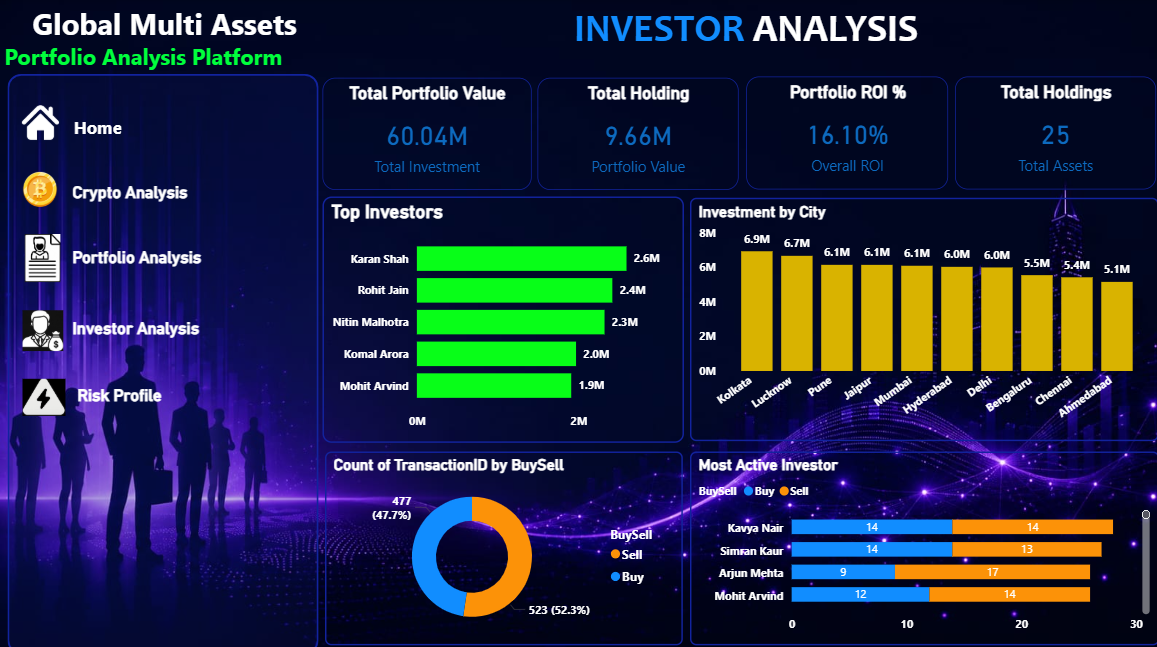

Layout of this report page (visuals, bound fields, positions):
{"tool":"powerbi","page":{"name":"Investor Analysis","canvas":[1280,720],"ordinal":3},"visuals":[{"type":"textbox","box":[0,0,370.5,115.3],"z":0},{"type":"card","title":"    Total Holding","fields":{"Values":["Measure.Portfolio Value"]},"box":[591.2,86.9,220.8,123.1],"z":0,"group":"g6"},{"type":"image","box":[25.3,187,38.6,44.6],"z":0,"group":"g1"},{"type":"clusteredBarChart","title":"Top Investors","fields":{"Category":["Dim_Investors.InvestorName"],"Y":["Measure.Total Investment"]},"box":[354,216.8,396.6,270.3],"z":0,"group":"g7"},{"type":"actionButton","title":"Portfolio Analysis","box":[80.8,273.9,159.3,24.1],"z":0,"group":"g2"},{"type":"actionButton","title":"Investor Analysis","box":[80.8,351.1,167.7,29],"z":0,"group":"g4"},{"type":"actionButton","title":"Risk Profile","box":[85.6,423.5,100.1,24.1],"z":0,"group":"g3"},{"type":"donutChart","fields":{"Y":["CountNonNull(Dim_Transactions.TransactionID)"],"Category":["Dim_Transactions.BuySell"]},"box":[356.8,496.7,392.5,212.7],"z":0,"group":"g8"},{"type":"shape","box":[8.4,83,341.4,637],"z":1000},{"type":"card","title":"Total Portfolio Value","fields":{"Values":["Measure.Total Investment"]},"box":[354.7,86.9,229.2,123.1],"z":1000,"group":"g6"},{"type":"actionButton","title":"Crypto Analysis","box":[80.8,201.5,127.9,29],"z":1000,"group":"g1"},{"type":"clusteredColumnChart","title":"Investment by City","fields":{"Category":["Dim_Investors.City"],"Y":["Measure.Total Investment"]},"box":[757.4,218.2,514.6,267.6],"z":1000,"group":"g7"},{"type":"image","box":[25.3,258.2,44.6,53.1],"z":1000,"group":"g2"},{"type":"image","box":[25.3,331.8,44.6,63.9],"z":1000,"group":"g4"},{"type":"image","box":[25.3,409,47.1,56.7],"z":1000,"group":"g3"},{"type":"barChart","title":"Most Active Investor","fields":{"Category":["Dim_Investors.InvestorName"],"Series":["Dim_Transactions.BuySell"],"Y":["CountNonNull(Dim_Transactions.TransactionID)"]},"box":[757,497,515,213],"z":1000,"group":"g8"},{"type":"card","title":"Total Holdings","fields":{"Values":["Measure.Total Assets"]},"box":[1049.6,85.7,220.8,124.3],"z":2000,"group":"g6"},{"type":"image","box":[19.2,115.3,50.8,41.2],"z":2000,"group":"g5"},{"type":"group","id":"g1","title":"Group 1","box":[25.3,187,183.4,44.6],"z":2000},{"type":"card","title":"Portfolio ROI %","fields":{"Values":["Measure.Overall ROI"]},"box":[820.4,85.7,222,124.3],"z":3000,"group":"g6"},{"type":"actionButton","box":[49.5,121.9,115.8,37.4],"z":3000,"group":"g5"},{"type":"group","id":"g2","title":"Group 2","box":[25.3,258.2,214.7,53.1],"z":3000},{"type":"group","id":"g3","title":"Group 5","box":[25.3,409,160.5,56.7],"z":4000},{"type":"group","id":"g4","title":"Group 4","box":[25.3,331.8,223.2,63.9],"z":5000},{"type":"group","id":"g5","title":"Group 6","box":[19.2,115.3,146.1,44],"z":6000},{"type":"textbox","box":[358.3,0,921.7,74.8],"z":7000},{"type":"group","id":"g6","title":"Group 3","box":[354.7,85.7,915.7,124.3],"z":8000},{"type":"group","id":"g7","title":"Group 7","box":[354,216.8,918,270.3],"z":9000},{"type":"group","id":"g8","title":"Group 8","box":[356.8,496.7,915.2,213.3],"z":10000}]}

Visuals, with their boxes in screenshot pixels (x1, y1, x2, y2), scaled from the page's 1280x720 canvas onto the 1157x647 screenshot:
textbox: box(0, 0, 335, 104)
"    Total Holding" card: box(534, 78, 734, 189)
image: box(23, 168, 58, 208)
"Top Investors" clusteredBarChart: box(320, 195, 678, 438)
"Portfolio Analysis" actionButton: box(73, 246, 217, 268)
"Investor Analysis" actionButton: box(73, 316, 225, 342)
"Risk Profile" actionButton: box(77, 381, 168, 402)
donutChart - CountNonNull(Dim_Transactions.TransactionID) x Dim_Transactions.BuySell: box(323, 446, 677, 637)
shape: box(8, 75, 316, 646)
"Total Portfolio Value" card: box(321, 78, 528, 189)
"Crypto Analysis" actionButton: box(73, 181, 189, 207)
"Investment by City" clusteredColumnChart: box(685, 196, 1150, 437)
image: box(23, 232, 63, 280)
image: box(23, 298, 63, 356)
image: box(23, 368, 65, 418)
"Most Active Investor" barChart: box(684, 447, 1150, 638)
"Total Holdings" card: box(949, 77, 1148, 189)
image: box(17, 104, 63, 141)
"Group 1" group: box(23, 168, 189, 208)
"Portfolio ROI %" card: box(742, 77, 942, 189)
actionButton: box(45, 110, 149, 143)
"Group 2" group: box(23, 232, 217, 280)
"Group 5" group: box(23, 368, 168, 418)
"Group 4" group: box(23, 298, 225, 356)
"Group 6" group: box(17, 104, 149, 143)
textbox: box(324, 0, 1156, 67)
"Group 3" group: box(321, 77, 1148, 189)
"Group 7" group: box(320, 195, 1150, 438)
"Group 8" group: box(323, 446, 1150, 638)
